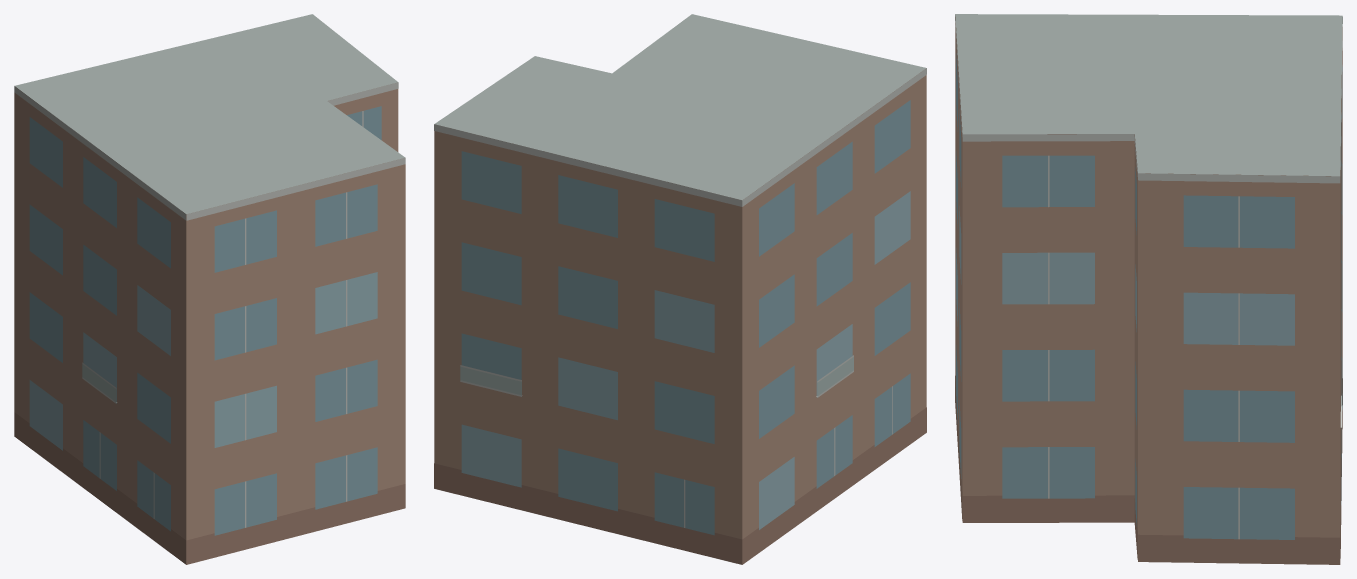
Rendered from survey-upis-32494958.glb.
3 renders of one model, left to right at view 1: azimuth 30°, elevation 25°; view 2: azimuth 150°, elevation 25°; view 3: azimuth 270°, elevation 25°, orthographic. The views are drawn at different scales.
Visible parts, largest first — view 1: survey-upis-32494958.tmp; view 2: survey-upis-32494958.tmp; view 3: survey-upis-32494958.tmp.
Boxes of the visible parts, <box> form: survey-upis-32494958.tmp: <box>14,14,405,564</box>; survey-upis-32494958.tmp: <box>434,14,926,564</box>; survey-upis-32494958.tmp: <box>955,14,1342,564</box>.
Bounding box in the file's own units: 11.78 × 13.15 × 11.89.
